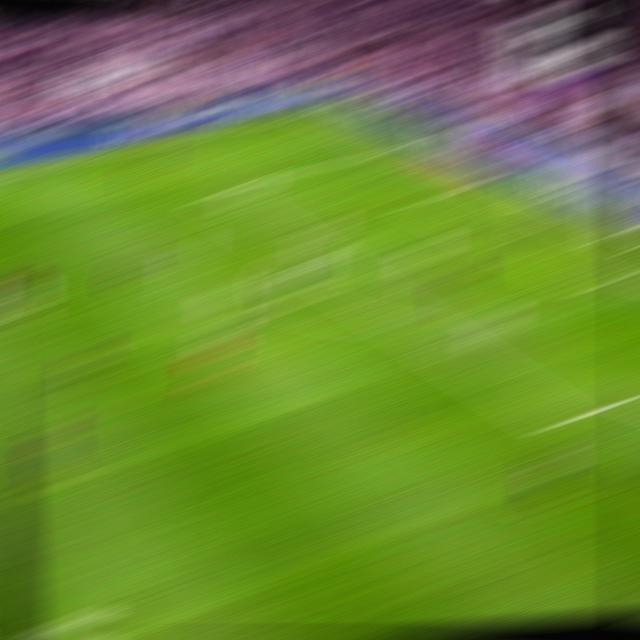bigarea_bottom_inner: (542, 411, 578, 432)
bigarea_top_inner: (197, 187, 228, 198)
bigarea_top_outter: (386, 142, 416, 148)
bottom_arc_area_intersection: (391, 314, 425, 329)
smallarea_bottom_inner: (580, 277, 613, 292)
smallarea_top_inner: (407, 196, 436, 201)
top_arc_area_intersection: (276, 241, 305, 249)
